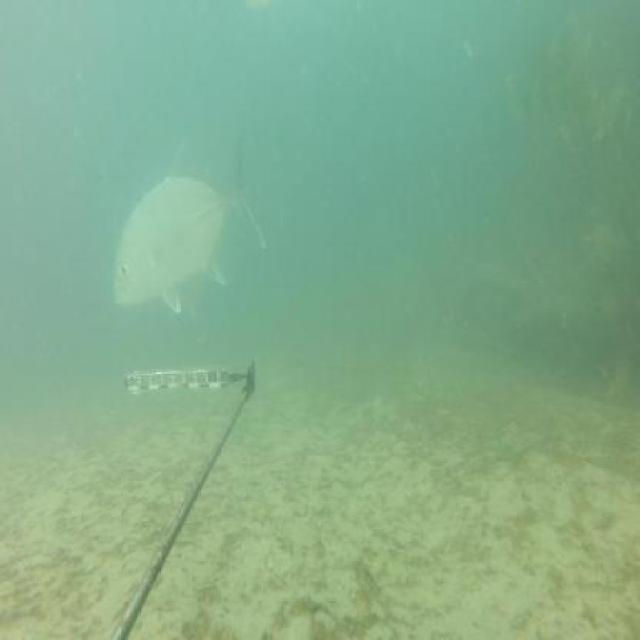Caranx: (111, 121, 271, 319)
